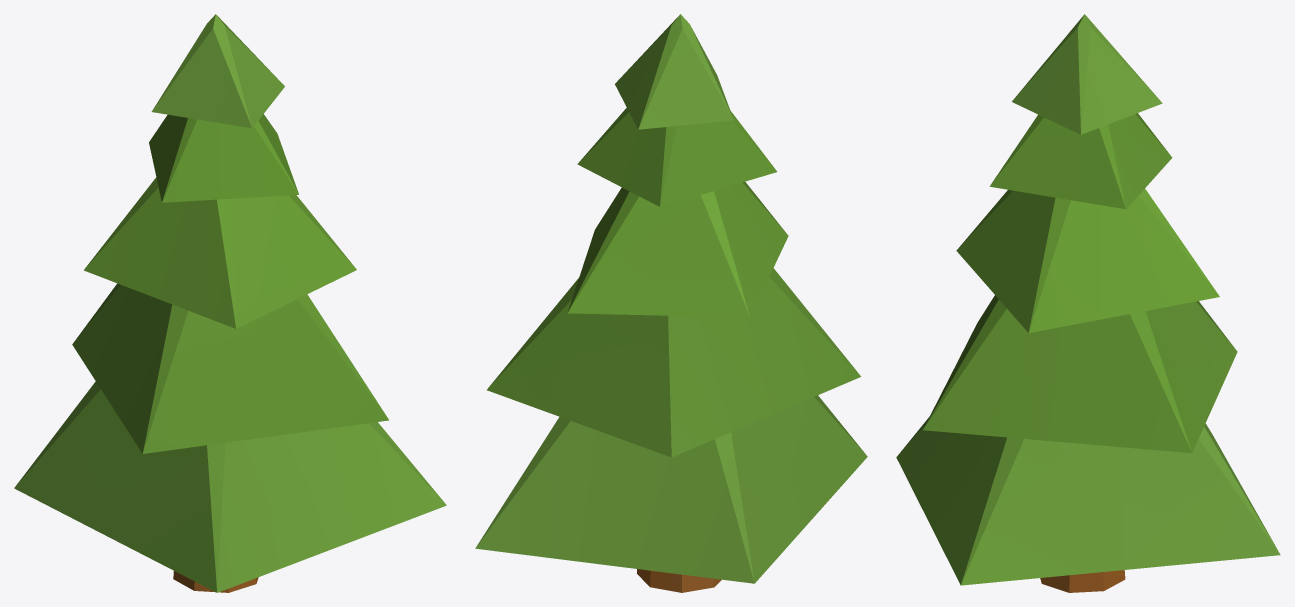
The model's file is tree_4_green.fbx.
The picture shows the model from 3 angles, left to right: view 1: azimuth 30°, elevation 25°; view 2: azimuth 150°, elevation 25°; view 3: azimuth 270°, elevation 25°; orthographic projection.
Visible parts, largest first — view 1: tree_4_green; view 2: tree_4_green; view 3: tree_4_green.
Part boxes in pixels (bbox=[...]): tree_4_green: bbox=[14, 14, 446, 592]; tree_4_green: bbox=[475, 14, 867, 592]; tree_4_green: bbox=[896, 14, 1280, 592].
Size of the model in its own units: 358 by 623 by 387.
